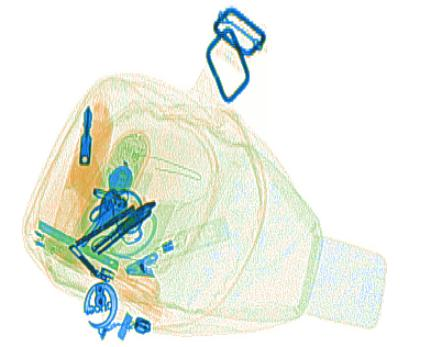knife: (33, 217, 161, 297)
